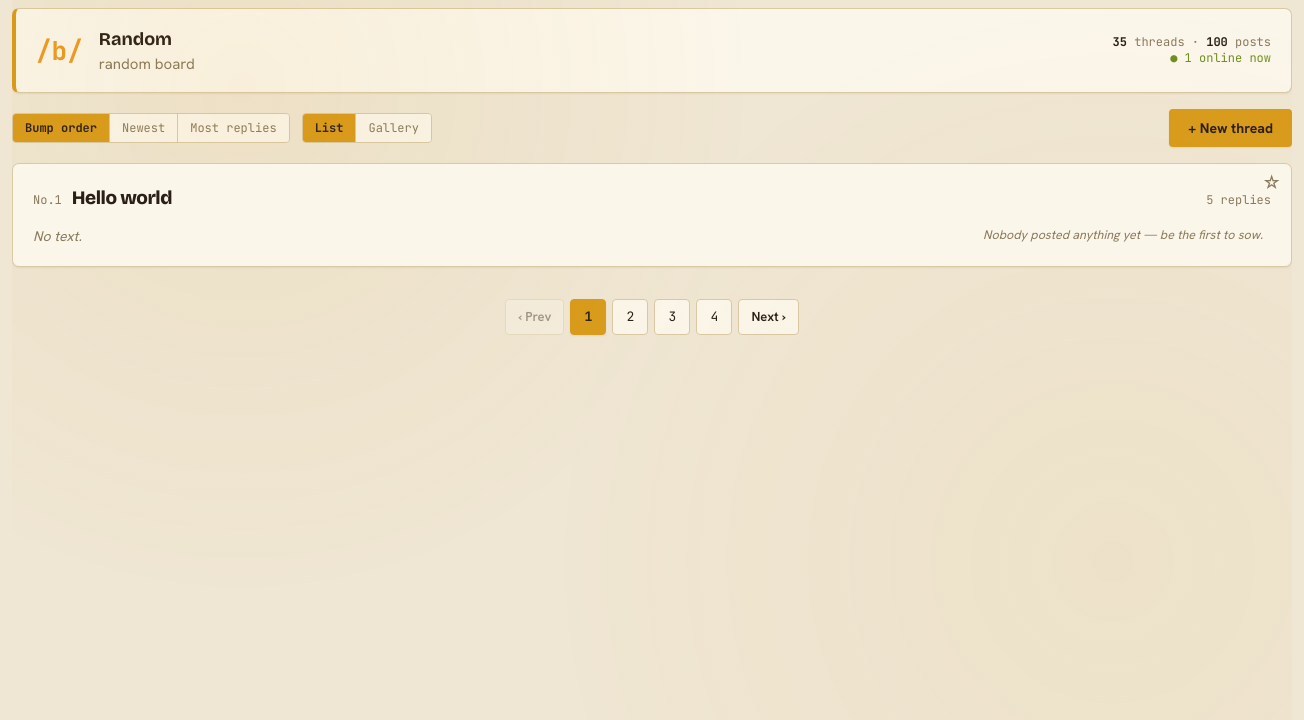
Scenario: CatalogView › renders gallery tiles instead of list cards in gallery mode
Click the button "Gallery" at (393, 128), box [355,114,431,142]
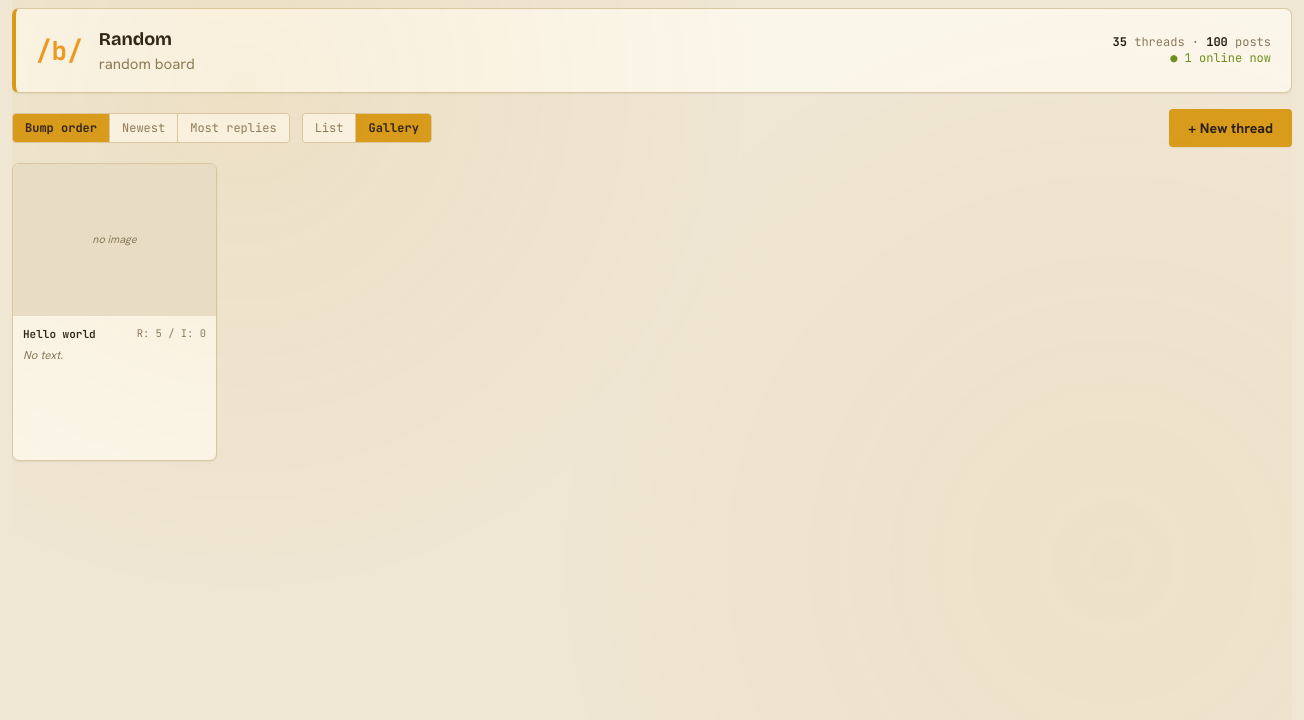
Check: the text "Hello world" is shown, box [23,326,96,342]
Check: the link "no image Hello world R: 5 / I: 0 No text." is shown, box [12,162,217,461]
